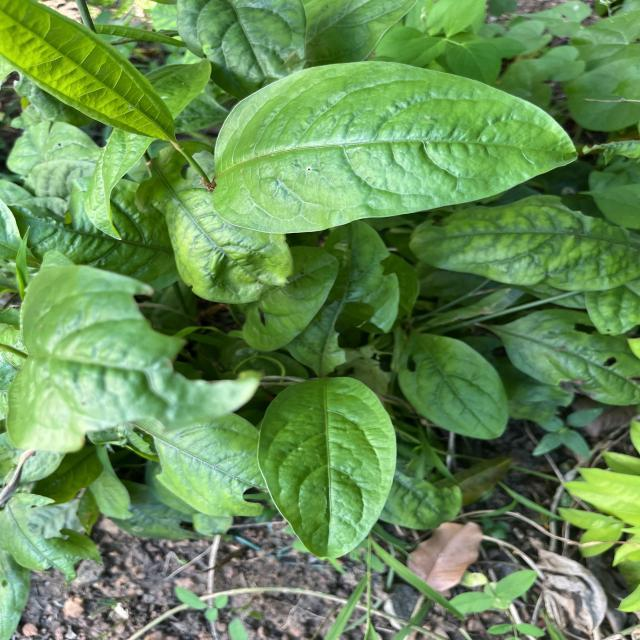Plumbago indica: (205, 56, 582, 238), (250, 372, 399, 564), (0, 0, 182, 148), (405, 191, 640, 294), (394, 328, 513, 440)
